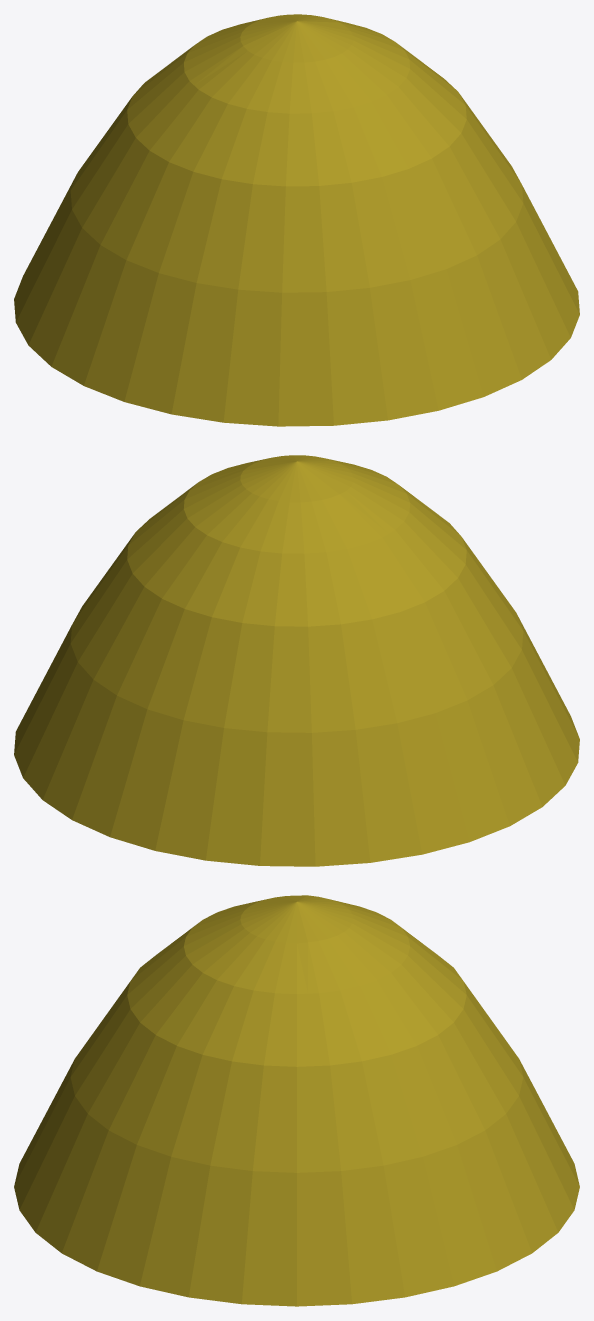
3 renders of one model, top to bottom at view 1: azimuth 30°, elevation 25°; view 2: azimuth 150°, elevation 25°; view 3: azimuth 270°, elevation 25°, orthographic.
Parts seen in each view (by area): view 1: Cone; view 2: Cone; view 3: Cone.
Boxes of the visible parts, bbox=[...] form: Cone: bbox=[14, 14, 579, 426]; Cone: bbox=[14, 455, 579, 866]; Cone: bbox=[14, 895, 579, 1306].
Bounding box in the file's own units: 700 × 389 × 700.
